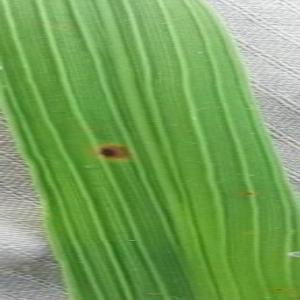Brown_Spot: (91, 138, 140, 164), (271, 285, 287, 294), (245, 189, 256, 199)
